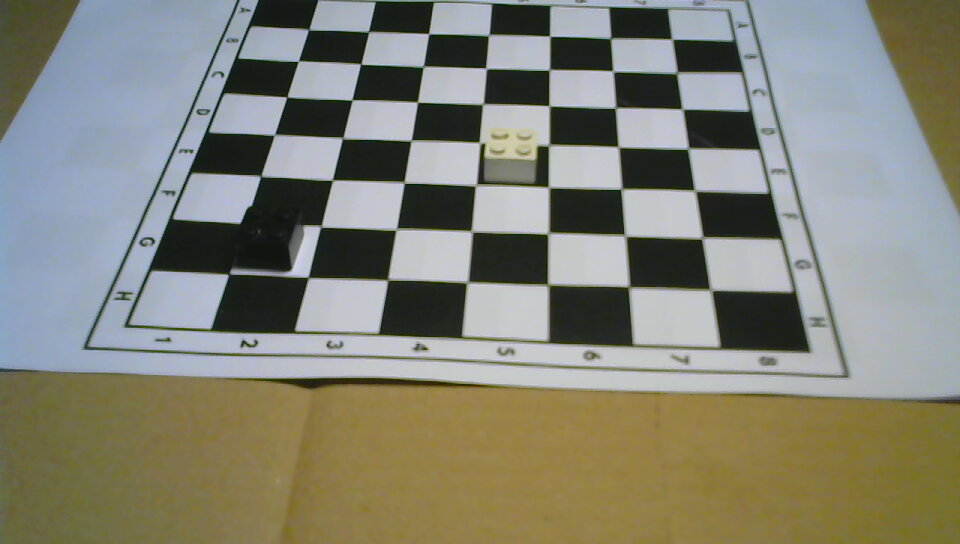bp: (237, 206, 302, 270)
wp: (484, 126, 537, 186)
